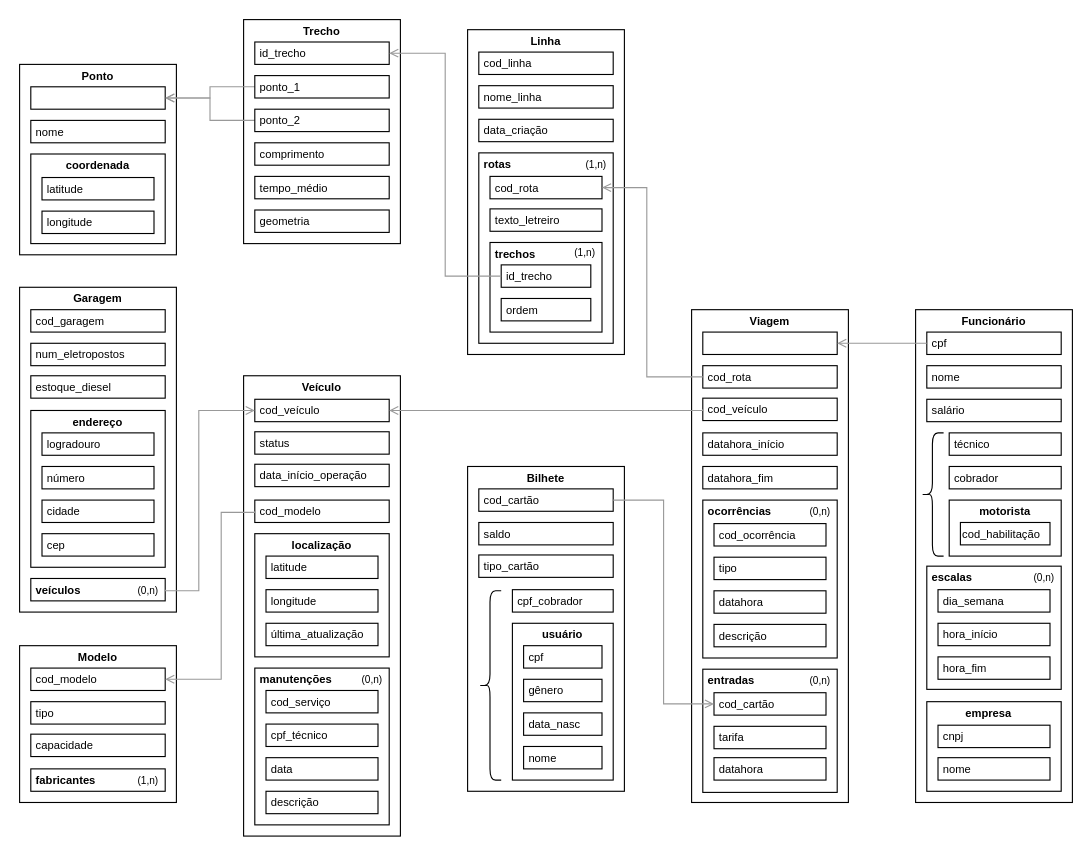
Some shapes in this 1092 by 856 pixel diagram are drawn without their labels. The shapes that lost their labels are listed below. From the top down, each one's centre as x and y in pixels, then its label:
At [97,97]: "cod_ponto".
At [769,342]: "cpf_motorista".
